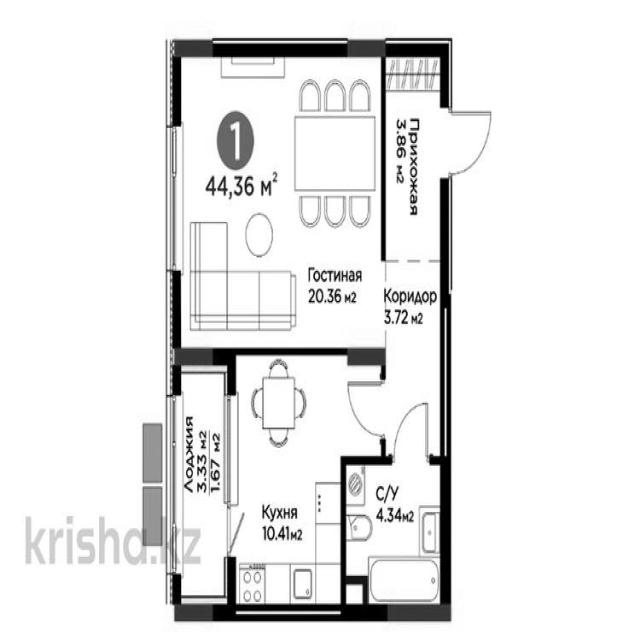balcony: (172, 362, 230, 612)
bathroom: (344, 462, 448, 618)
hallway: (382, 46, 446, 262), (386, 266, 444, 460)
kitchen: (230, 357, 346, 614)
living_room: (173, 41, 382, 356)
